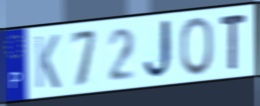2: (108, 26, 137, 84)
7: (70, 28, 99, 89)
J: (142, 17, 177, 83)
K: (33, 33, 62, 91)
O: (178, 15, 215, 78)
T: (218, 12, 248, 72)
